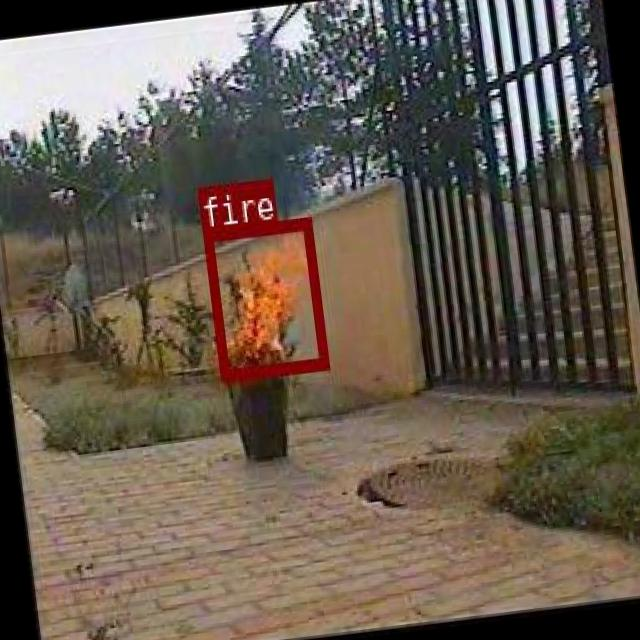fire: (201, 215, 326, 378)
